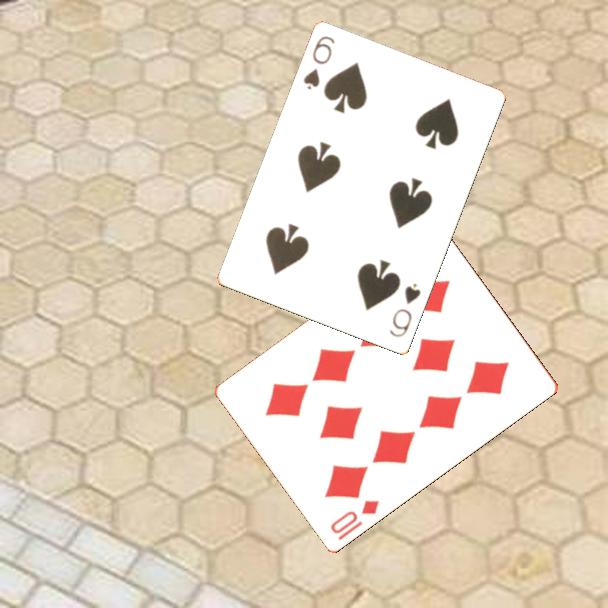d10: (327, 496, 382, 543)
s06: (386, 280, 424, 341), (300, 33, 338, 93)
